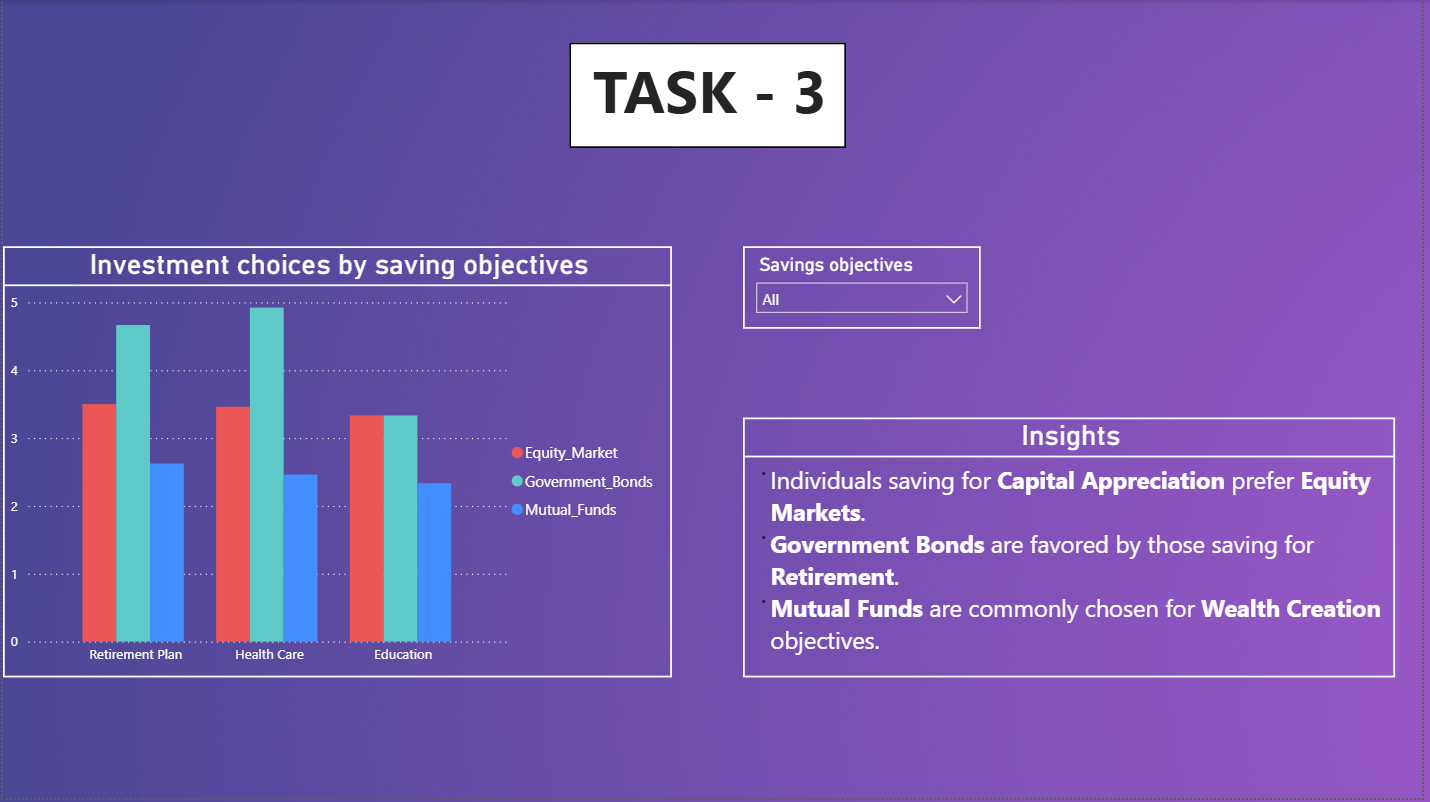

Layout of this report page (visuals, bound fields, positions):
{"tool":"powerbi","page":{"name":"Task 3","canvas":[1280,720],"ordinal":2},"visuals":[{"type":"clusteredColumnChart","title":"Investment choices by saving objectives","fields":{"Y":["Avg(Data_set 2.Equity_Market)","Avg(Data_set 2.Government_Bonds)","Avg(Data_set 2.Mutual_Funds)"],"Category":["Data_set 2.What are your savings objectives?"]},"box":[0,222,603,388.9],"z":0},{"type":"slicer","fields":{"Values":["Data_set 2.What are your savings objectives?"]},"box":[667.3,222,214.2,74.4],"z":1000},{"type":"textbox","title":"Insights","box":[667.3,376.5,588.4,234.4],"z":2000},{"type":"textbox","box":[511.1,37.9,249.5,95.4],"z":3000}]}

Visuals, with their boxes in screenshot pixels (x1, y1, x2, y2), scaled from the page's 1280x720 canvas onto the 1430x802 screenshot:
"Investment choices by saving objectives" clusteredColumnChart: 0 247 674 680
slicer - Data_set 2.What are your savings objectives?: 745 247 985 330
"Insights" textbox: 745 419 1403 680
textbox: 571 42 850 148
